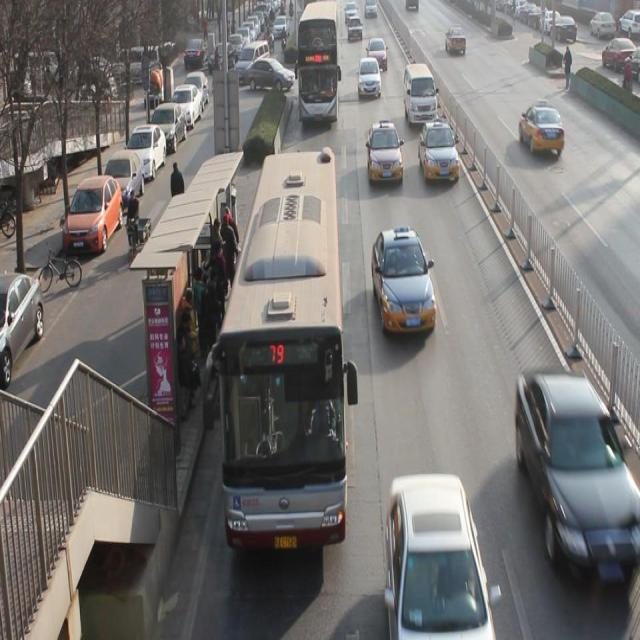car: (518, 369, 632, 586), (388, 480, 497, 631), (372, 233, 438, 338), (419, 124, 462, 188), (518, 104, 567, 160), (367, 122, 404, 186), (358, 59, 382, 96), (366, 39, 388, 70), (446, 26, 467, 56), (348, 18, 363, 40)
truck: (405, 65, 438, 128)
van: (218, 150, 345, 554), (300, 1, 339, 128)
